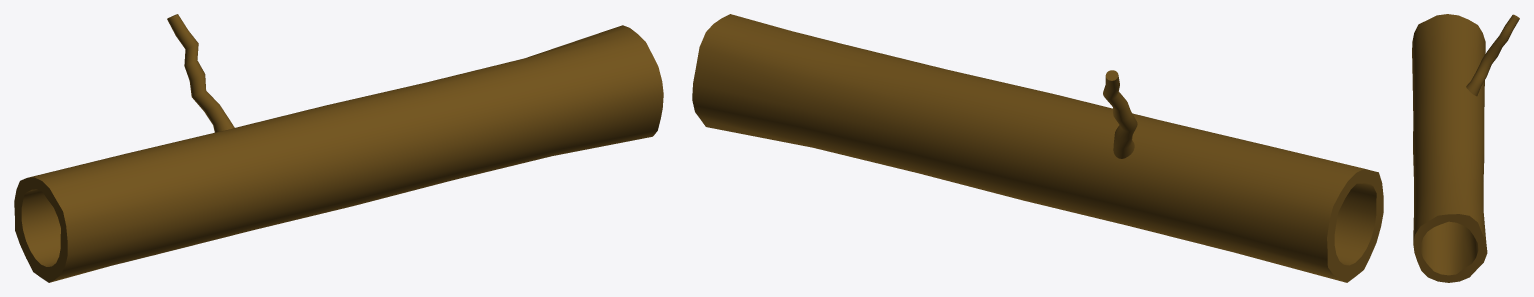
Rendered from fallentrunk.fbx.
3 views of the same model, side by side, from view 1: azimuth 30°, elevation 25°; view 2: azimuth 150°, elevation 25°; view 3: azimuth 270°, elevation 25° (orthographic). The views are drawn at different scales.
Parts seen in each view (by area): view 1: pCylinder4; view 2: pCylinder4; view 3: pCylinder4.
Boxes of the visible parts, left/top/right/bottom form: pCylinder4: left=14, top=14, right=663, bottom=282; pCylinder4: left=692, top=14, right=1383, bottom=282; pCylinder4: left=1412, top=14, right=1519, bottom=282.
Bounding box in the file's own units: 0.4275 × 0.1272 × 0.0971.
